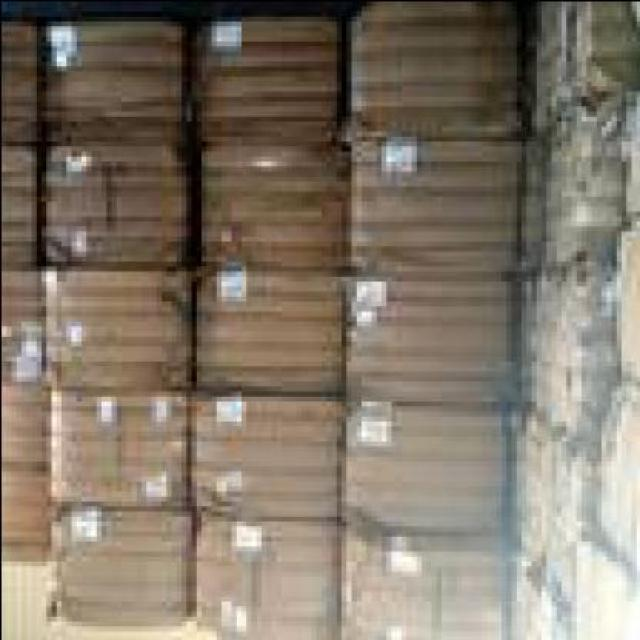CARDBOARD: (340, 145, 525, 280), (345, 5, 510, 146), (340, 280, 515, 405), (336, 404, 504, 524), (35, 275, 190, 400), (336, 530, 507, 638), (34, 150, 186, 270), (185, 400, 330, 525), (35, 30, 180, 155), (190, 20, 330, 149), (190, 276, 335, 396), (40, 510, 185, 630), (185, 524, 337, 638), (195, 155, 340, 270), (40, 395, 185, 510), (505, 414, 590, 606), (515, 265, 600, 440), (520, 120, 615, 271), (524, 5, 636, 130), (586, 380, 634, 575), (569, 550, 637, 638), (600, 230, 635, 375), (2, 150, 36, 276), (1, 469, 44, 566), (2, 274, 36, 386), (0, 24, 31, 144), (610, 106, 635, 234), (2, 389, 40, 466), (505, 610, 566, 638)
